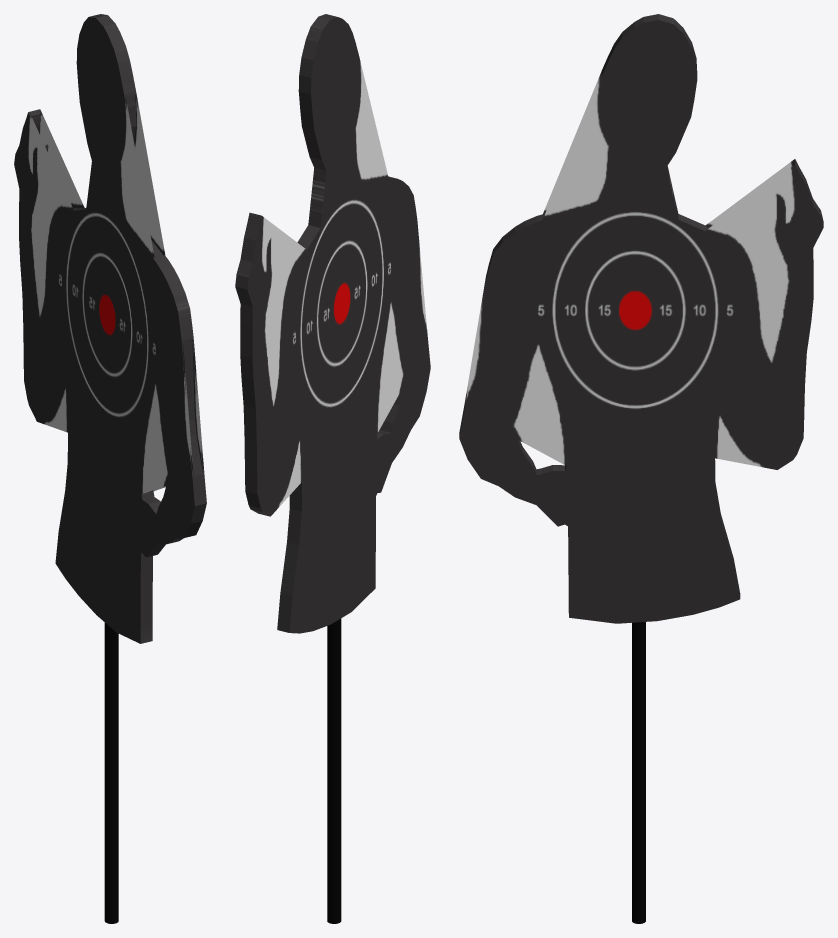
The model's file is targetCivilian.fbx.
3 views of the same model, side by side, from view 1: azimuth 30°, elevation 25°; view 2: azimuth 150°, elevation 25°; view 3: azimuth 270°, elevation 25° (orthographic).
Visible parts, largest first — view 1: Cube, Cylinder; view 2: Cube, Cylinder; view 3: Cube, Cylinder.
Boxes of the visible parts, bbox=[...] form: Cube: bbox=[14, 14, 206, 643]; Cylinder: bbox=[104, 622, 118, 923]; Cube: bbox=[235, 14, 430, 633]; Cylinder: bbox=[327, 618, 341, 923]; Cube: bbox=[459, 14, 823, 623]; Cylinder: bbox=[632, 622, 645, 923].
Size of the model in its own units: 20 by 1422 by 519.
Materials: 2 (1 with a texture image).
